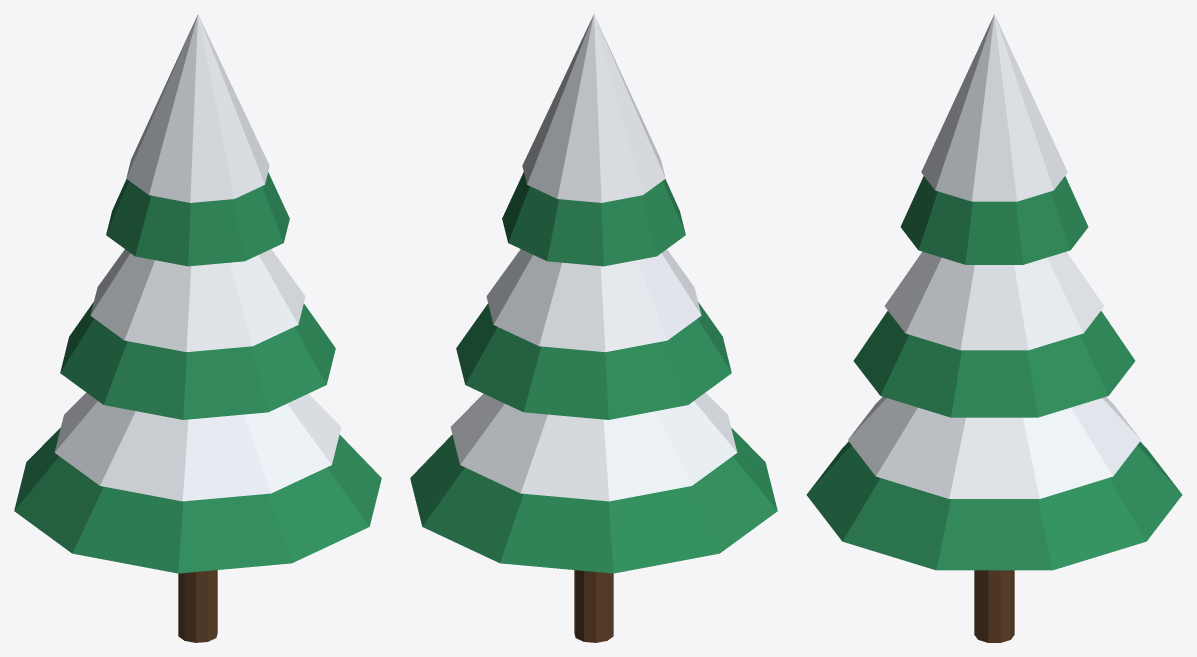
The model's file is Ski_PineSnow.fbx.
3 renders of one model, left to right at view 1: azimuth 30°, elevation 25°; view 2: azimuth 150°, elevation 25°; view 3: azimuth 270°, elevation 25°, orthographic.
Parts seen in each view (by area): view 1: PineSnow; view 2: PineSnow; view 3: PineSnow.
Part boxes in pixels (x1=…): PineSnow: x1=14, y1=14, x2=381, y2=642; PineSnow: x1=410, y1=14, x2=777, y2=642; PineSnow: x1=806, y1=14, x2=1182, y2=642.
Bounding box in the file's own units: 2.93 × 5.61 × 3.08.
